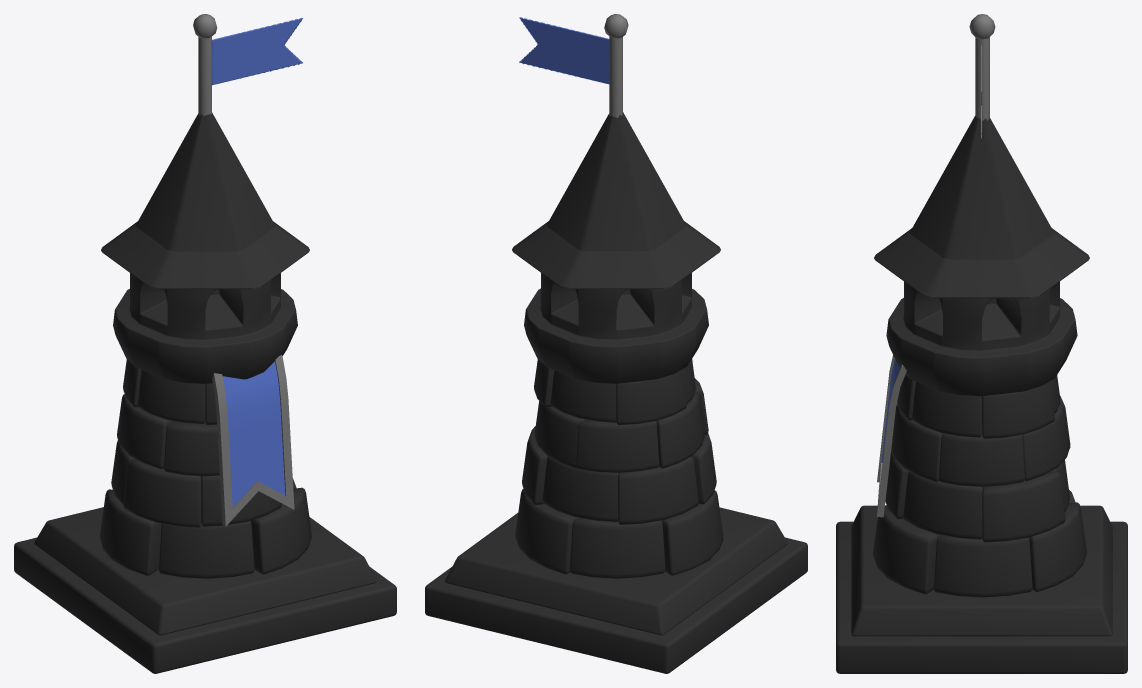
Rendered from Turm_Klassisch_schwarz.fbx.
3 renders of one model, left to right at view 1: azimuth 30°, elevation 25°; view 2: azimuth 150°, elevation 25°; view 3: azimuth 270°, elevation 25°, orthographic. The views are drawn at different scales.
Visible parts, largest first — view 1: Cone, base2, base, Cylinder.024, Banner_rot, Cylinder.019, Cylinder.013, Flag_v2, Banner.001, Cylinder.018, Cylinder.020, Cylinder.007 (+6 smaller); view 2: Cone, base2, Cylinder.024, base, Cylinder.021, Cylinder.014, Cylinder.009, Flag_v2, Cylinder.015, Cylinder.020, Cylinder.022, Cylinder.002 (+7 smaller); view 3: Cone, base2, Cylinder.024, base, Cylinder.023, Cylinder.016, Cylinder.011, Cylinder.017, Cylinder.018, Cylinder.022, Cylinder.004, Cylinder.005 (+6 smaller).
Part boxes in pixels (bbox=[...]): Cone: bbox=[101, 112, 309, 289]; base2: bbox=[34, 507, 376, 635]; base: bbox=[14, 537, 396, 673]; Cylinder.024: bbox=[113, 273, 297, 383]; Banner_rot: bbox=[222, 361, 285, 507]; Cylinder.019: bbox=[159, 521, 254, 578]; Cylinder.013: bbox=[123, 459, 201, 527]; Flag_v2: bbox=[212, 18, 302, 85]; Banner.001: bbox=[212, 355, 294, 526]; Cylinder.018: bbox=[251, 487, 311, 574]; Cylinder.020: bbox=[100, 489, 161, 575]; Cylinder.007: bbox=[164, 421, 219, 476]; Cone: bbox=[512, 112, 720, 288]; base2: bbox=[445, 507, 787, 635]; Cylinder.024: bbox=[524, 273, 708, 383]; base: bbox=[425, 537, 807, 673]; Cylinder.021: bbox=[570, 517, 665, 578]; Cylinder.014: bbox=[618, 456, 698, 524]; Cylinder.009: bbox=[576, 419, 659, 472]; Flag_v2: bbox=[519, 17, 609, 84]; Cylinder.015: bbox=[542, 456, 618, 521]; Cylinder.020: bbox=[661, 490, 723, 575]; Cylinder.022: bbox=[515, 489, 577, 574]; Cylinder.002: bbox=[616, 369, 686, 425]; Cone: bbox=[874, 115, 1089, 298]; base2: bbox=[851, 505, 1112, 636]; Cylinder.024: bbox=[886, 281, 1077, 396]; base: bbox=[836, 521, 1127, 673]; Cylinder.023: bbox=[934, 535, 1032, 597]; Cylinder.016: bbox=[982, 471, 1065, 542]; Cylinder.011: bbox=[939, 431, 1024, 486]; Cylinder.017: bbox=[903, 471, 982, 539]; Cylinder.018: bbox=[873, 505, 940, 594]; Cylinder.022: bbox=[1029, 502, 1086, 592]; Cylinder.004: bbox=[982, 381, 1054, 438]; Cylinder.005: bbox=[912, 381, 981, 437].
Bounding box in the file's own units: 4 × 9.05 × 4.
